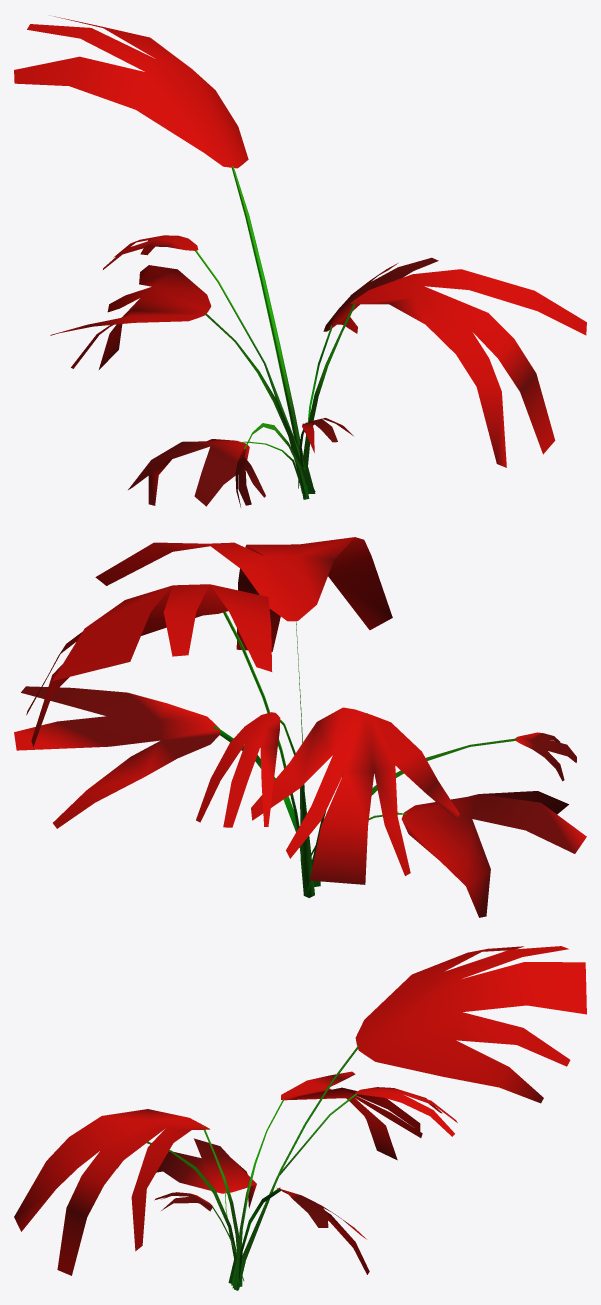
The model's file is Var5_LOD1.fbx.
3 renders of one model, top to bottom at view 1: azimuth 30°, elevation 25°; view 2: azimuth 150°, elevation 25°; view 3: azimuth 270°, elevation 25°, orthographic. The views are drawn at different scales.
Visible parts, largest first — view 1: _b766_Var5_LOD1; view 2: _b766_Var5_LOD1; view 3: _b766_Var5_LOD1.
Boxes of the visible parts, bbox=[...] form: _b766_Var5_LOD1: bbox=[14, 16, 586, 507]; _b766_Var5_LOD1: bbox=[14, 537, 586, 917]; _b766_Var5_LOD1: bbox=[14, 946, 586, 1290].
Bounding box in the file's own units: 96.8 × 78.78 × 131.
